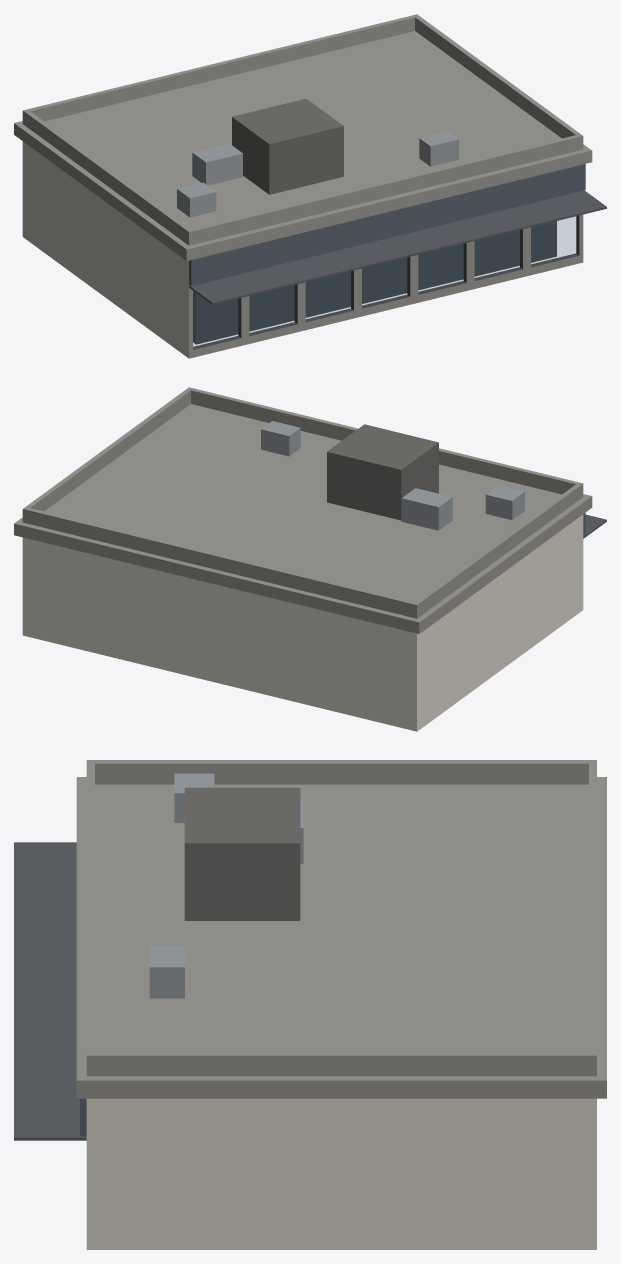
The model's file is retail-2.glb.
3 renders of one model, top to bottom at view 1: azimuth 30°, elevation 25°; view 2: azimuth 150°, elevation 25°; view 3: azimuth 270°, elevation 25°, orthographic. The views are drawn at different scales.
Visible parts, largest first — view 1: retail-2; view 2: retail-2; view 3: retail-2.
Part boxes in pixels (x1,y1,x2,y2): retail-2: (14,14,606,358); retail-2: (14,387,606,731); retail-2: (14,760,606,1249).
Bounding box in the file's own units: 21.79 × 8.4 × 17.97.
